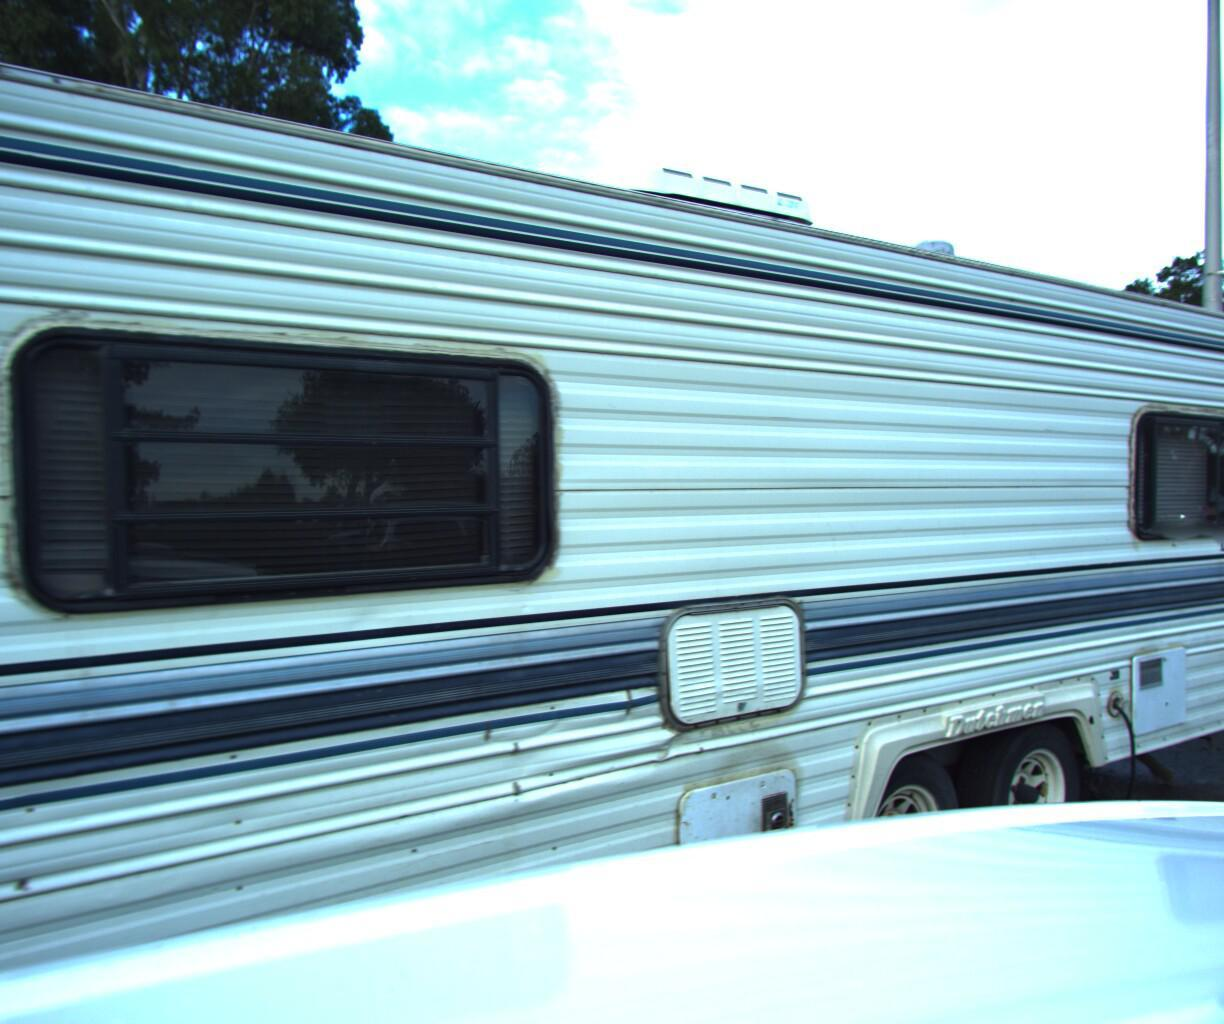car: (1122, 505, 1224, 728)
other_vehicle: (0, 0, 1224, 1024)
